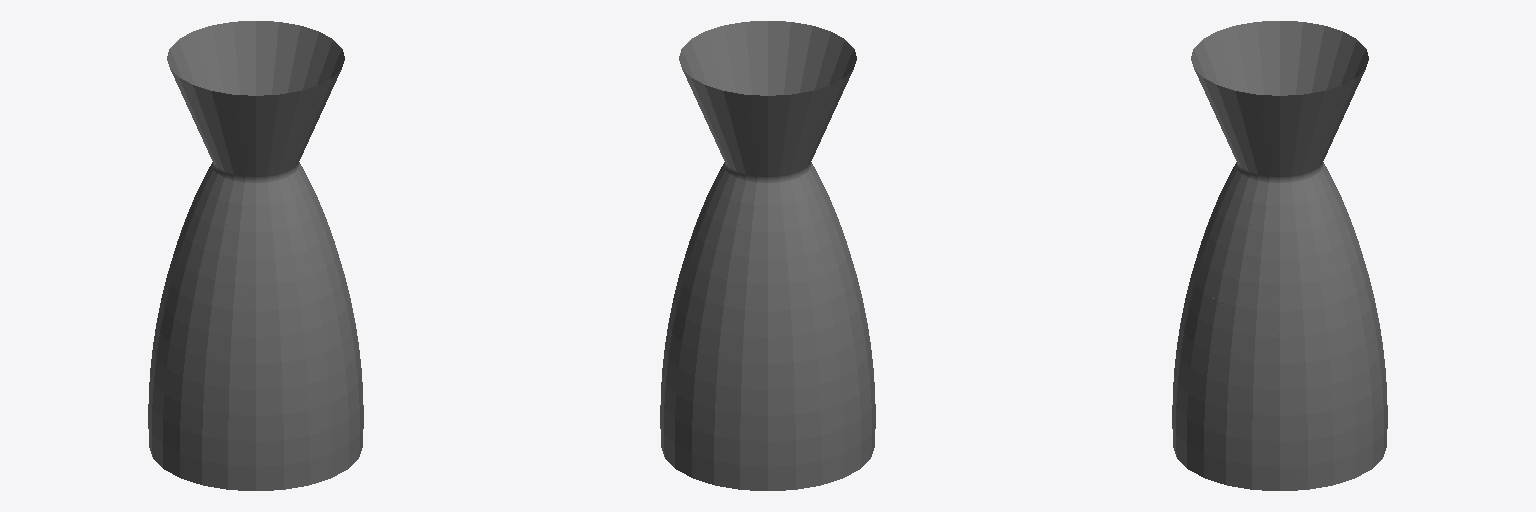
The robot description file, URDF, robot "object":
<?xml version="1.0"?>
<robot name="object">
  <link name="object">
    <visual>
      <origin xyz="0 0 0"/>
      <geometry>
        <mesh
          filename="../../mesh/oakink_virtual/cylinder_bottle_s451.stl" />
      </geometry>
      <material name="mat">
        <color rgba="0.5 0.5 0.5 1"/>
      </material>
    </visual>

    <collision>
      <origin xyz="0 0 0"/>
      <geometry>
        <mesh
          filename="../../mesh/oakink_virtual/cylinder_bottle_s451.stl" />
      </geometry>
    </collision>
  </link>
</robot>

--- Facts derived from the render (not from the file) ---
Views: 3 orthographic renders of the robot side by side, from view 1: azimuth 30°, elevation 25°; view 2: azimuth 150°, elevation 25°; view 3: azimuth 270°, elevation 25°.
Model object with 1 links and 0 joints (none), rooted at object, posed every joint at zero.
Visible links, largest first — view 1: object; view 2: object; view 3: object.
Boxes of the visible links, x1,y1,x2,y2 form: object: (148,21,363,490); object: (660,21,875,490); object: (1172,21,1387,490).
Size in the robot's own frame: 0.1143 by 0.1143 by 0.2272 metres.
1 mesh visuals loaded from 1 distinct referenced files (1 binary STL).